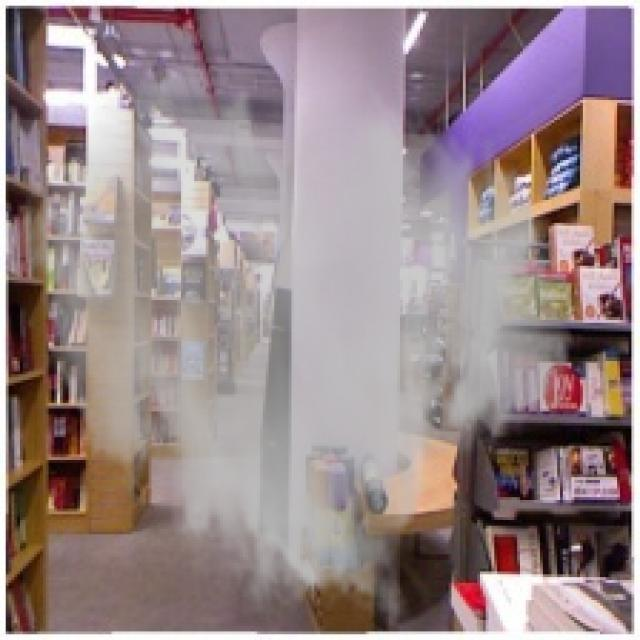Smoke: (20, 62, 580, 628)
